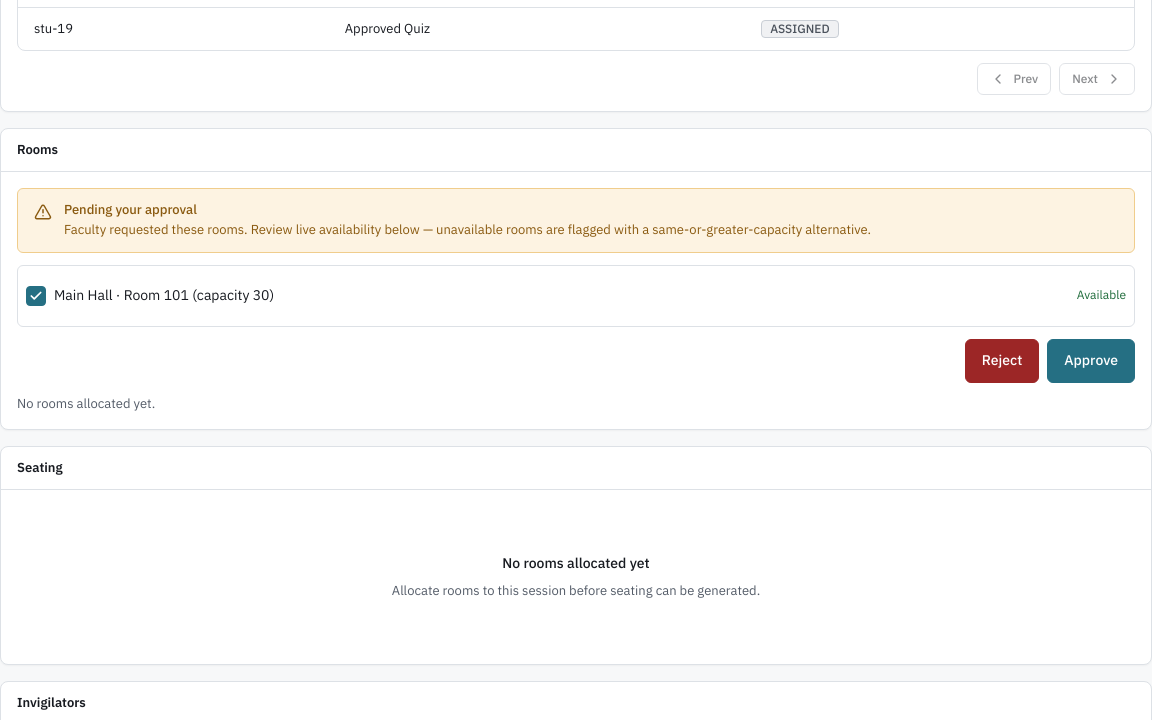
Room request + admin approval › admin can reject a room request, sending it back to the faculty
The width and height of the screenshot is (1152, 720).
(page scrolled)
Check: the text "Pending your approval" is shown, box [64,201,197,218]
Step 1. Click the button "Reject" → x=1002, y=361, box [965,339,1039,383]
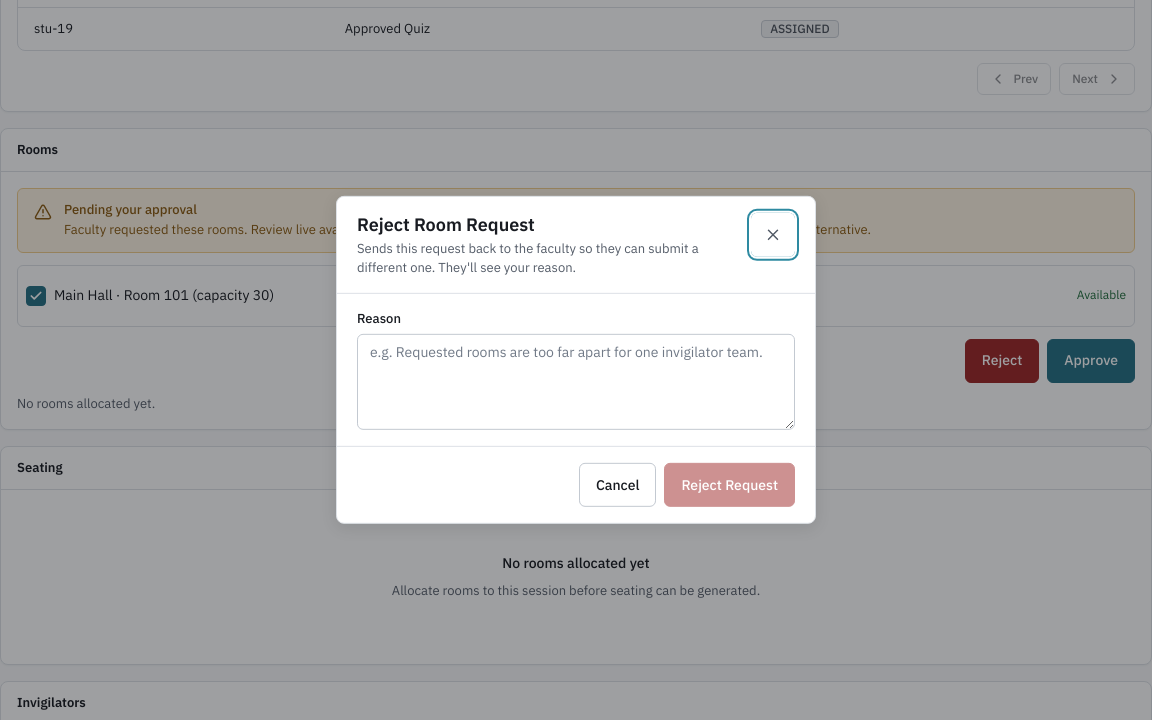
Step 2. Type "Rooms too far apart." into the text box labelled "Reason" → x=576, y=382, box [357,334,795,430]
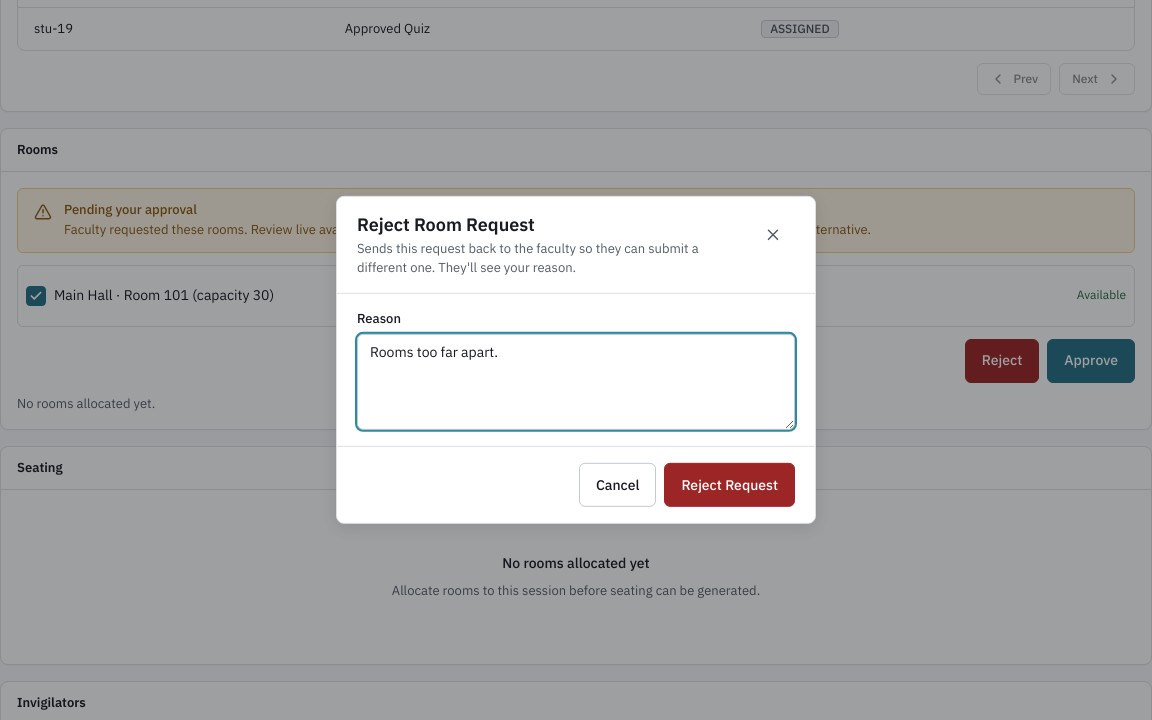
Step 3. Click the button "Reject Request" → x=730, y=485, box [664,463,795,507]
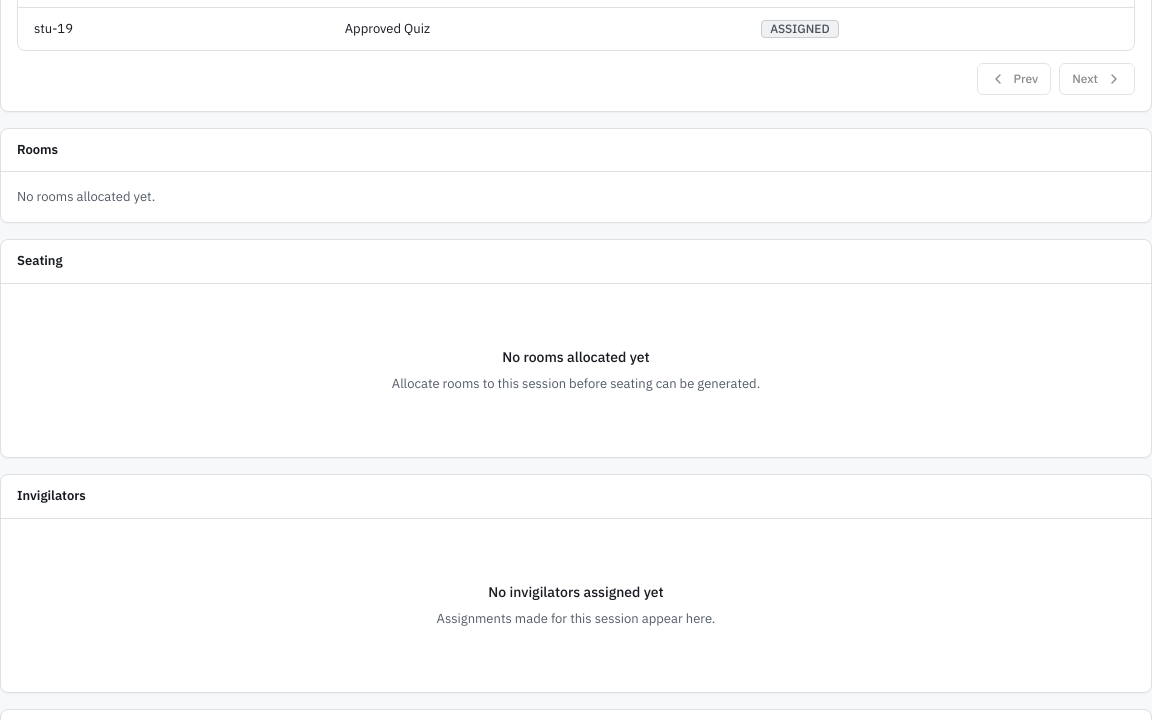
Check: the text "Pending your approval" is gone
